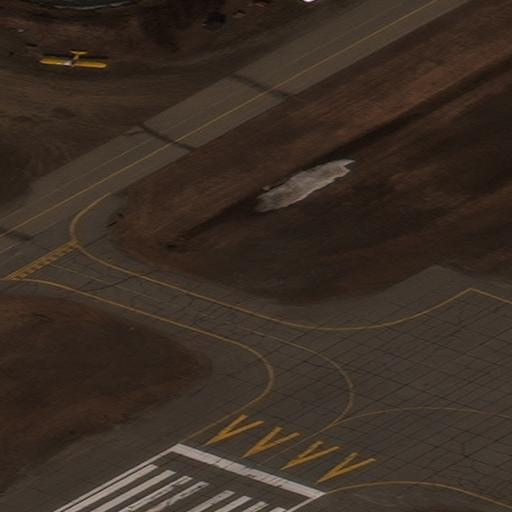Small Civil Transport: (39, 50, 105, 69)
